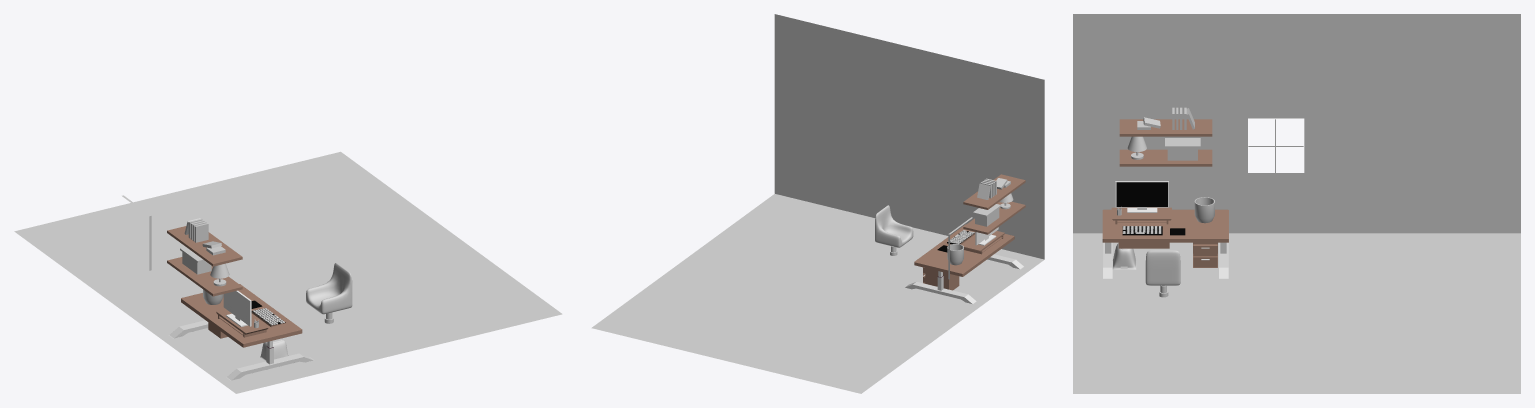
File: StudyingRoomProject1.glb
3 renders of one model, left to right at view 1: azimuth 30°, elevation 25°; view 2: azimuth 150°, elevation 25°; view 3: azimuth 270°, elevation 25°, orthographic. The views are drawn at different scales.
Parts seen in each view (by area): view 1: Sala, Table Top, Cube.005, Table Holder, Prateleira 2, Prateleira 1, TV, LapTable, Caixa; view 2: Sala, Table Top, Cube.005, Table Holder, Prateleira 2, Prateleira 1, Criado, Caixa; view 3: Sala, Table Top, Prateleira 2, ScreenMap, Cube.005, Prateleira 1, LapTable, Caixa, Table Holder, Cube, Vaso, TV.
Boxes of the visible parts, x1=… form: Sala: x1=14, y1=151, x2=562, y2=393; Table Top: x1=181, y1=284, x2=302, y2=347; Cube.005: x1=306, y1=263, x2=352, y2=314; Table Holder: x1=169, y1=320, x2=313, y2=380; Prateleira 2: x1=167, y1=226, x2=242, y2=266; Prateleira 1: x1=167, y1=257, x2=242, y2=296; TV: x1=223, y1=290, x2=251, y2=326; LapTable: x1=216, y1=309, x2=268, y2=337; Caixa: x1=180, y1=247, x2=211, y2=274; Sala: x1=591, y1=14, x2=1044, y2=393; Table Top: x1=914, y1=224, x2=1014, y2=276; Cube.005: x1=875, y1=205, x2=913, y2=247; Table Holder: x1=904, y1=254, x2=1023, y2=304; Prateleira 2: x1=963, y1=174, x2=1025, y2=209; Prateleira 1: x1=963, y1=201, x2=1025, y2=234; Criado: x1=925, y1=268, x2=959, y2=290; Caixa: x1=973, y1=204, x2=1001, y2=226; Sala: x1=1073, y1=14, x2=1520, y2=393; Table Top: x1=1102, y1=209, x2=1228, y2=242; Prateleira 2: x1=1119, y1=119, x2=1212, y2=136; ScreenMap: x1=1116, y1=182, x2=1167, y2=206; Cube.005: x1=1145, y1=250, x2=1180, y2=285; Prateleira 1: x1=1119, y1=149, x2=1212, y2=166; LapTable: x1=1111, y1=207, x2=1171, y2=224; Caixa: x1=1165, y1=138, x2=1200, y2=160; Table Holder: x1=1103, y1=242, x2=1228, y2=278; Cube: x1=1112, y1=243, x2=1136, y2=269; Vaso: x1=1194, y1=197, x2=1214, y2=223; TV: x1=1115, y1=181, x2=1168, y2=212.
Bounding box in the file's own units: 16.52 × 10.59 × 19.45.
